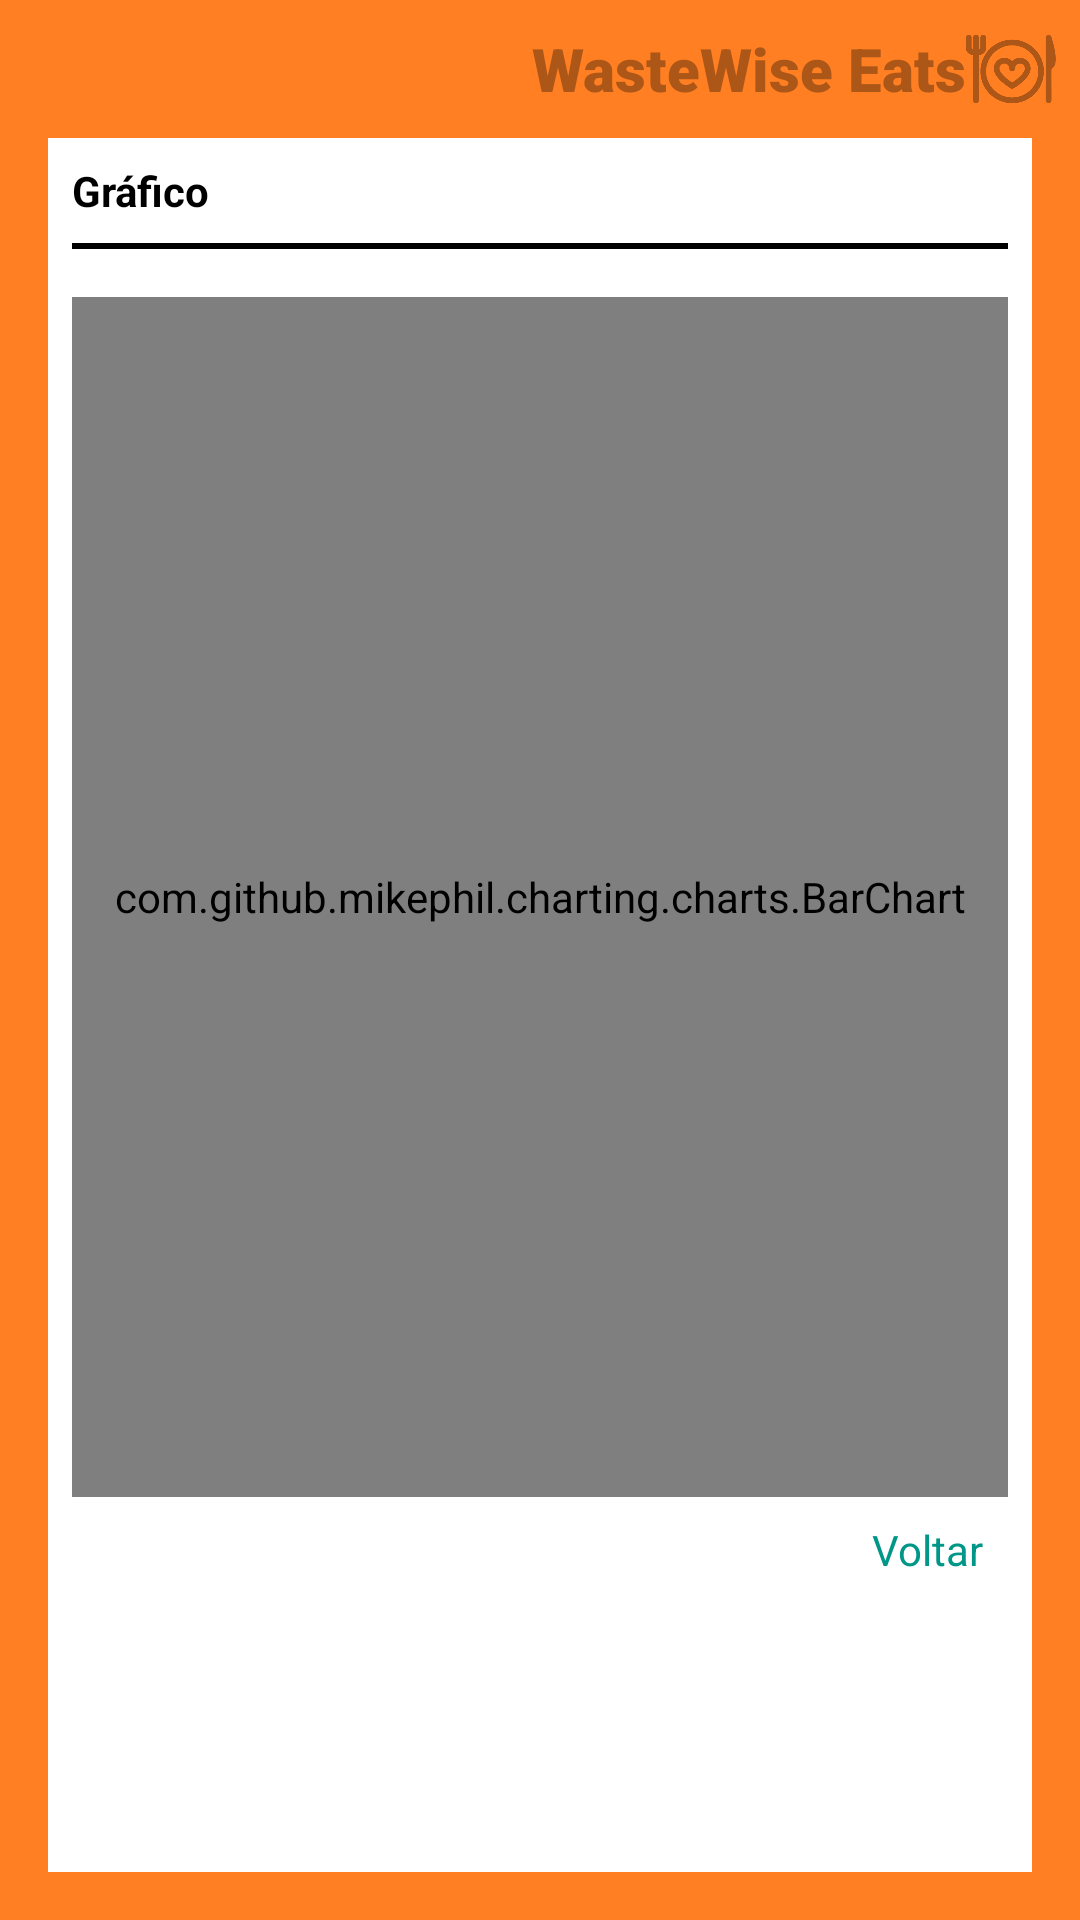

Named icons in this screenshot (1080px x 1920px) and their bounding boxes, bbox=[x1, y1, x2, y2]:
prato: bbox=[966, 35, 1056, 103]
